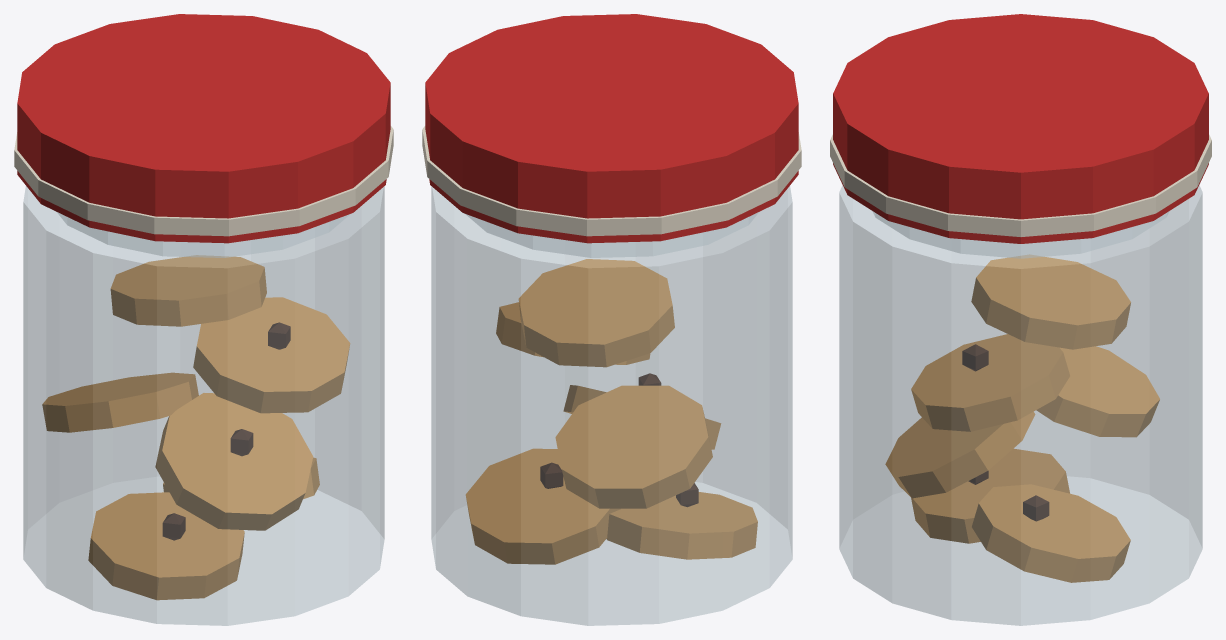
File: jar.glb
3 renders of one model, left to right at view 1: azimuth 30°, elevation 25°; view 2: azimuth 150°, elevation 25°; view 3: azimuth 270°, elevation 25°, orthographic.
Visible parts, largest first — view 1: jar; view 2: jar; view 3: jar.
Boxes of the visible parts, left/top/right/bottom form: jar: left=14, top=14, right=393, bottom=625; jar: left=422, top=14, right=801, bottom=625; jar: left=830, top=14, right=1211, bottom=625.
Size of the model in its own units: 0.126 by 0.166 by 0.126.
